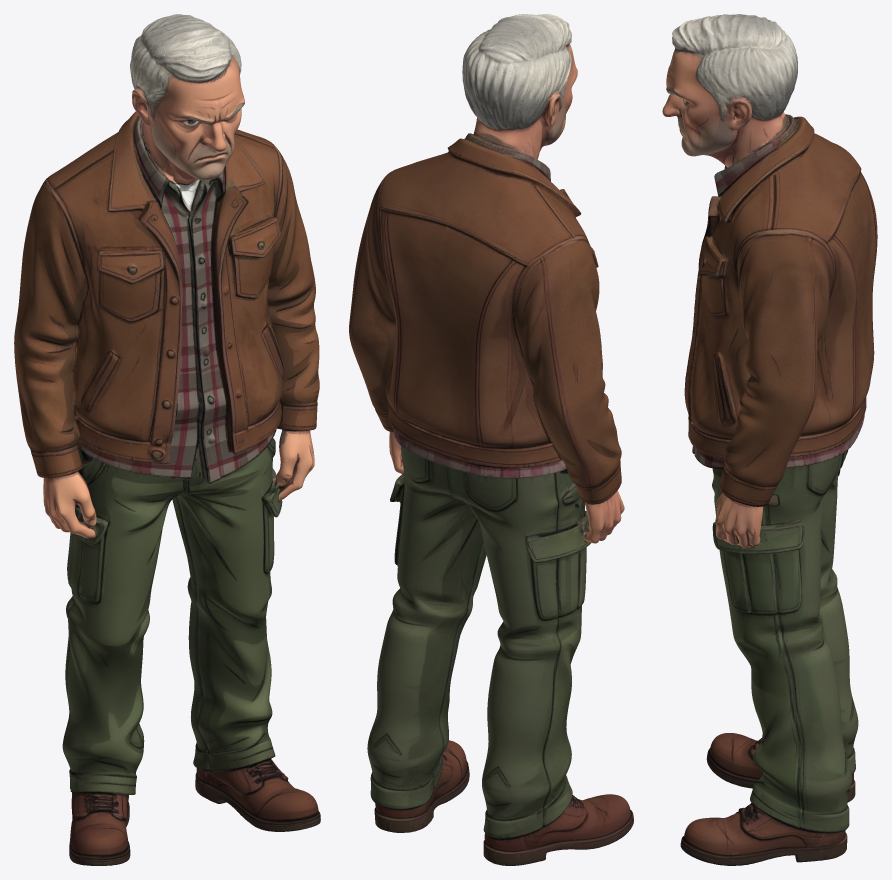
File: Meshy_NPC_Market_2.glb
3 renders of one model, left to right at view 1: azimuth 30°, elevation 25°; view 2: azimuth 150°, elevation 25°; view 3: azimuth 270°, elevation 25°, orthographic. The views are drawn at different scales.
Parts seen in each view (by area): view 1: Mesh_0.001; view 2: Mesh_0.001; view 3: Mesh_0.001.
Boxes of the visible parts, x1,y1,x2,y2 form: Mesh_0.001: [14, 14, 320, 865]; Mesh_0.001: [349, 14, 633, 865]; Mesh_0.001: [662, 14, 877, 865].
Size of the model in its own units: 0.5908 by 1.7 by 0.417.
1 material, 1 textured.
